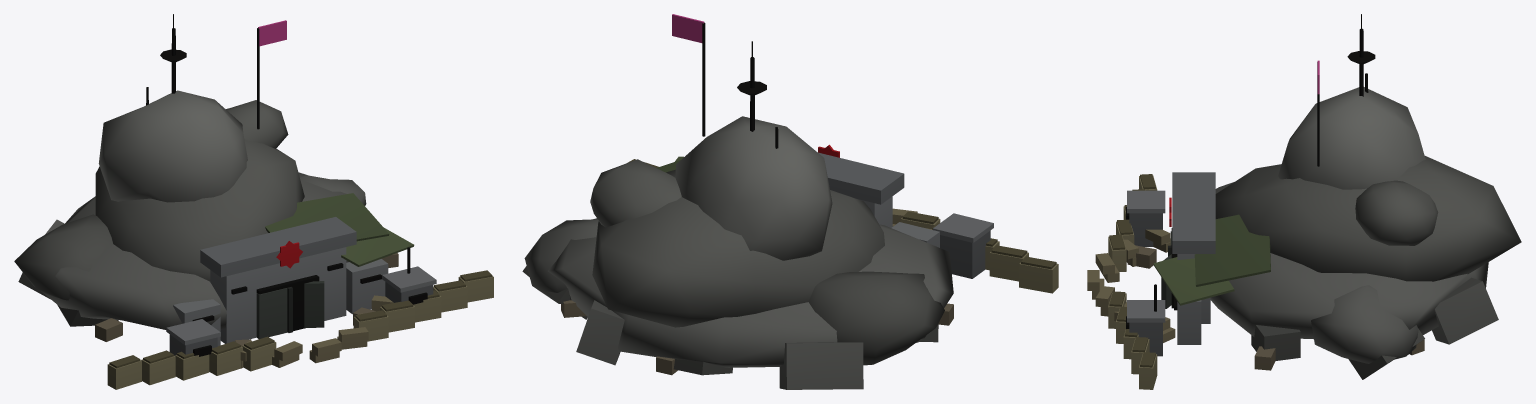
Rendered from m_fort_989bce24.glb.
3 views of the same model, side by side, from view 1: azimuth 30°, elevation 25°; view 2: azimuth 150°, elevation 25°; view 3: azimuth 270°, elevation 25° (orthographic). The views are drawn at different scales.
Parts seen in each view (by area): view 1: mesh; view 2: mesh; view 3: mesh.
Part boxes in pixels (<box>): mesh: <box>14,14,493,389</box>; mesh: <box>522,14,1058,389</box>; mesh: <box>1087,14,1521,389</box>.
Size of the model in its own units: 95.31 by 65.45 by 90.7.
